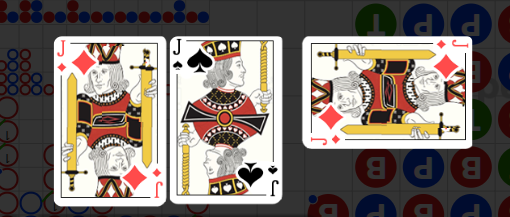7D: (152, 167, 165, 201)
JS: (171, 38, 215, 85), (238, 159, 282, 205)
